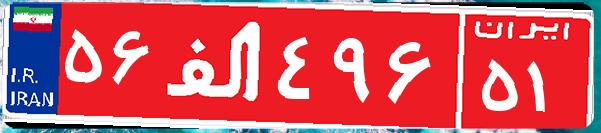1: (525, 38, 570, 115)
4: (273, 28, 330, 110)
5: (57, 26, 110, 107), (475, 38, 525, 113)
6: (385, 28, 445, 110), (110, 28, 158, 105)
9: (330, 28, 385, 110)
الف: (158, 15, 273, 115)
